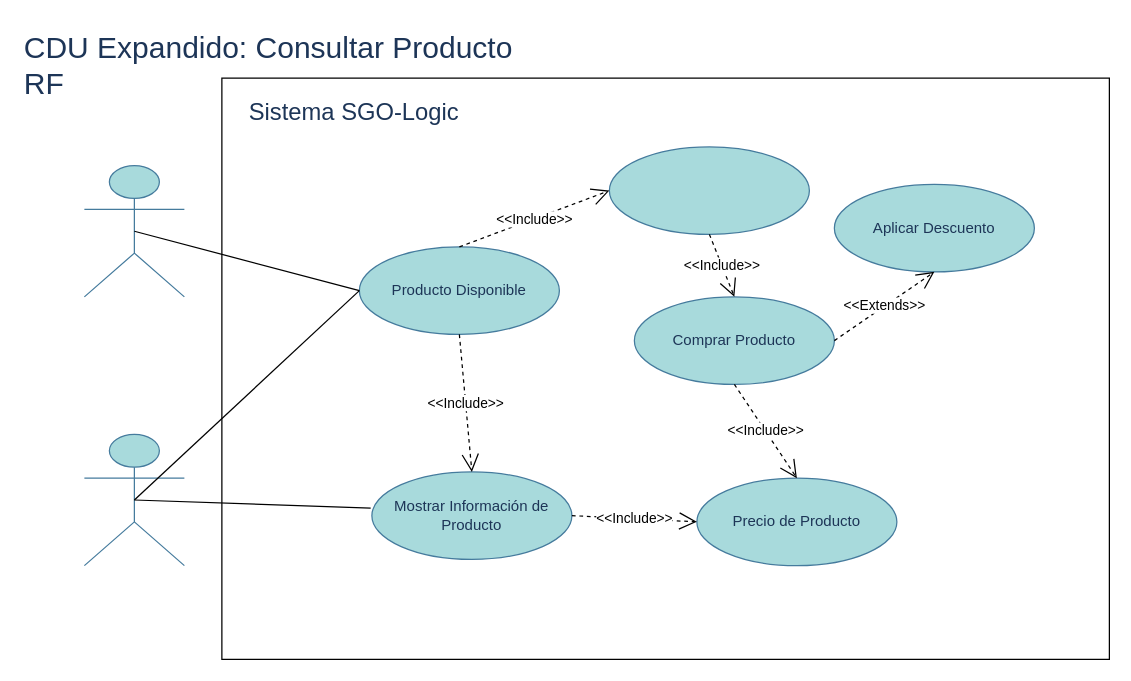
The diagram is 1131 pixels wide and 681 high, and some of its shapes have lost their labels. The shapes that lost their labels are listed below. From the top down, each one's centre as x and y in pixels, then its label:
At pixel 708 190: "Seleccionar Producto".
At pixel 133 230: "Cliente".
At pixel 133 499: "Empleado Tienda".
